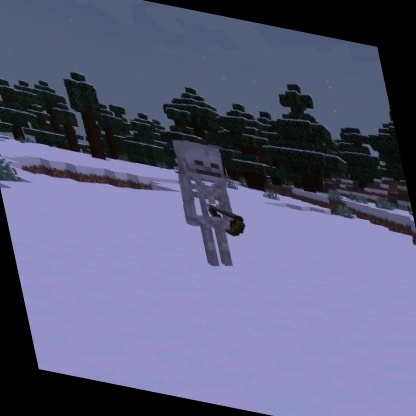skeleton: (163, 133, 259, 279)
